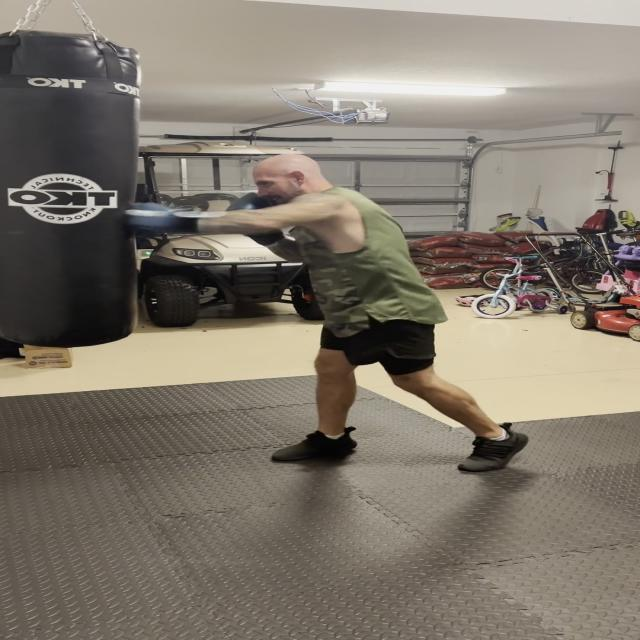bag: (0, 27, 146, 351)
cross: (111, 141, 416, 264)
